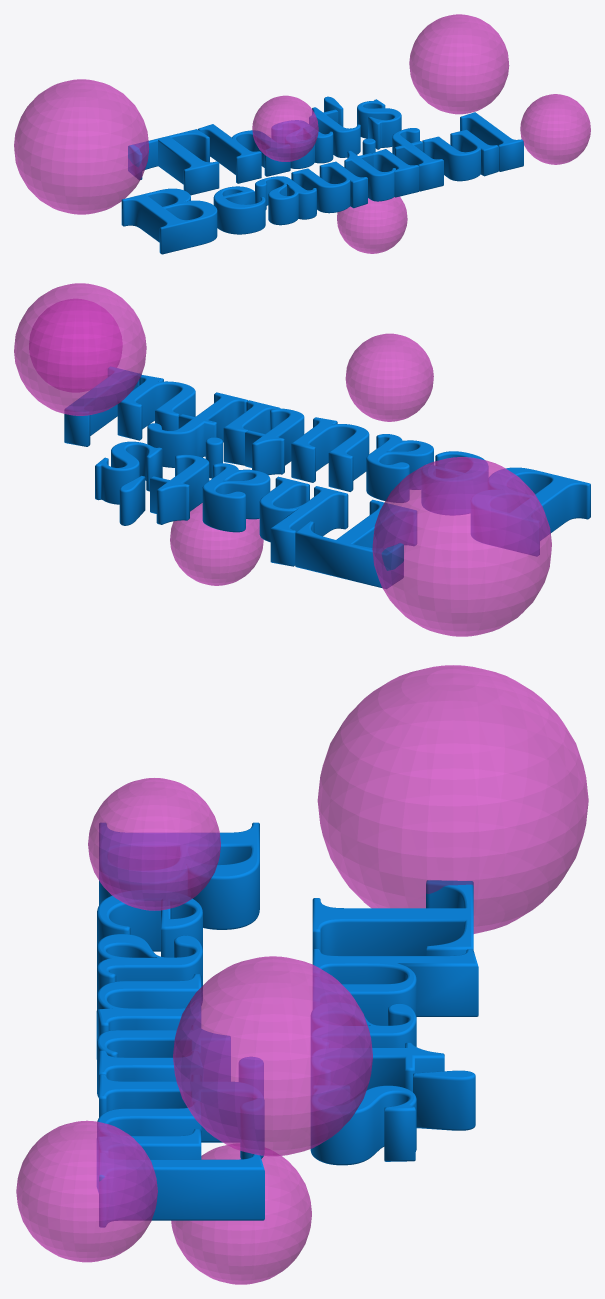
File: birthday_MSG.glb
3 renders of one model, top to bottom at view 1: azimuth 30°, elevation 25°; view 2: azimuth 150°, elevation 25°; view 3: azimuth 270°, elevation 25°, orthographic. The views are drawn at different scales.
Parts seen in each view (by area): view 1: Text, Sphere, Sphere.002, Sphere.001, Sphere.004, Sphere.003; view 2: Text, Sphere, Sphere.002, Sphere.001, Sphere.004, Sphere.003; view 3: Text, Sphere, Sphere.002, Sphere.001, Sphere.004, Sphere.003.
Part boxes in pixels (box(x1,y1,x2,y2)): Text: box(121, 96, 523, 254); Sphere: box(14, 79, 149, 214); Sphere.002: box(409, 14, 509, 114); Sphere.001: box(520, 94, 590, 164); Sphere.004: box(252, 95, 318, 161); Sphere.003: box(337, 196, 407, 253); Text: box(64, 367, 590, 588); Sphere: box(372, 457, 551, 636); Sphere.002: box(14, 283, 146, 415); Sphere.001: box(29, 299, 121, 391); Sphere.004: box(345, 333, 433, 421); Sphere.003: box(170, 503, 263, 585); Text: box(96, 822, 478, 1227); Sphere: box(317, 665, 588, 933); Sphere.002: box(173, 956, 372, 1156); Sphere.001: box(16, 1120, 157, 1262); Sphere.004: box(88, 778, 220, 910); Sphere.003: box(171, 1144, 311, 1284).
Size of the model in its own units: 4.08 by 1.67 by 2.14.
